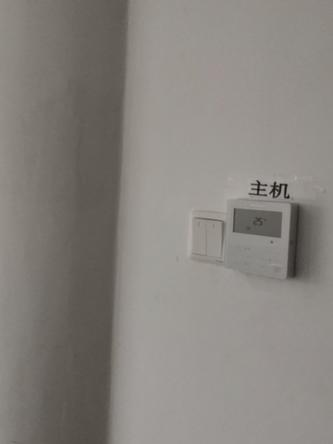switch: (204, 214, 225, 262), (189, 213, 207, 260)
